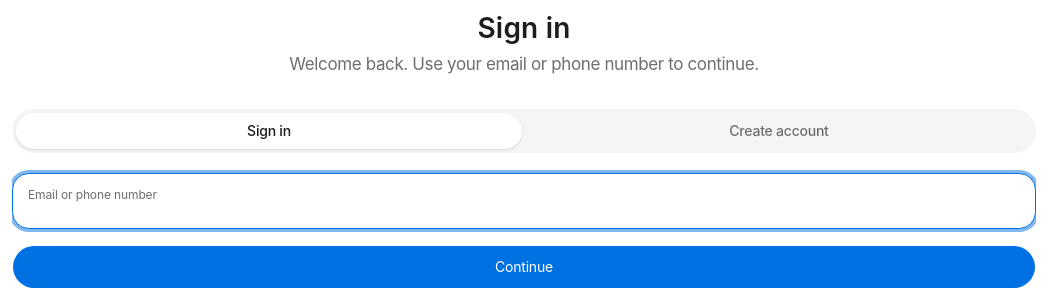
Test case: SignInFlow: the first step › takes the picker away again for an email
This screenshot has width=1048, height=305.
In the field labelled "Email or phone number": {"x": 524, "y": 201} [12,173,1036,229], type "4"
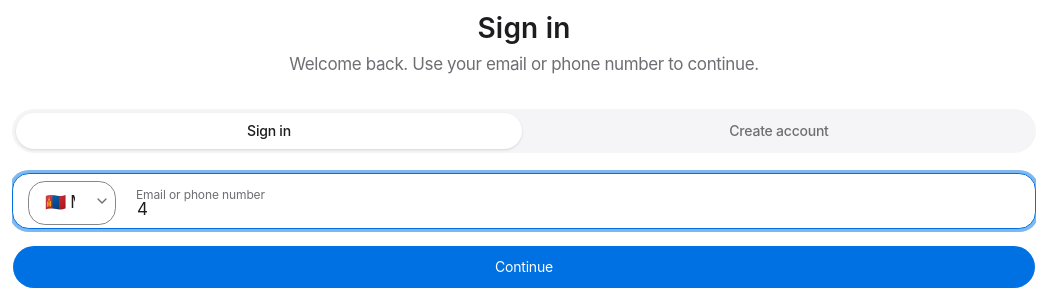
Expected: the dropdown named "Country" is shown, [28,181,116,225]
In the field labelled "Email or phone number": {"x": 524, "y": 201} [12,173,1036,229], type "a"
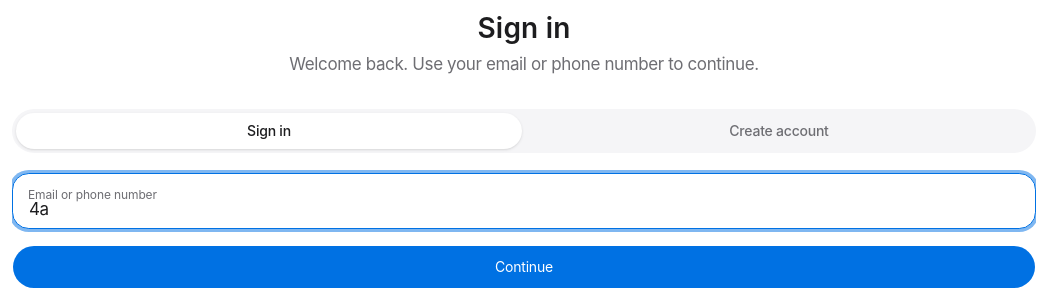
Expected: the dropdown labelled "Country" is gone
